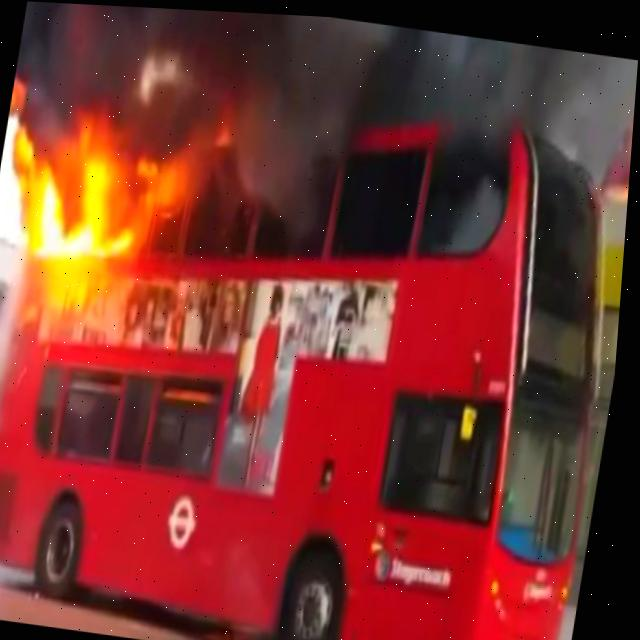fire: (13, 85, 221, 301)
smoke: (16, 1, 638, 249)
